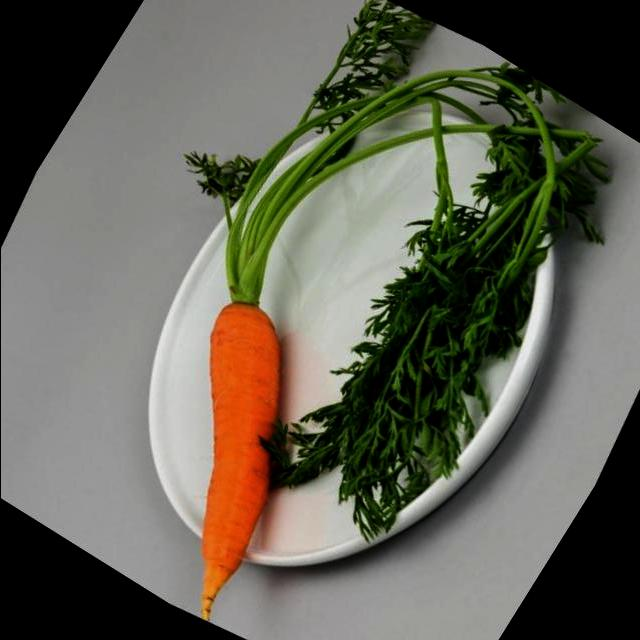carrot: (29, 31, 512, 626)
